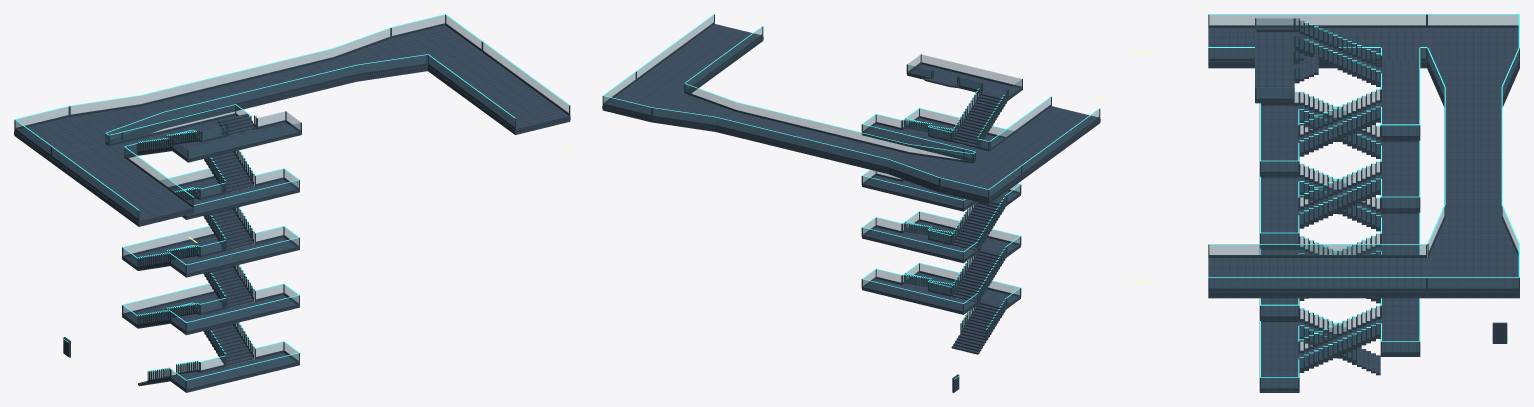
The model's file is v02-detailed-00-03-coffered-slender.glb.
The picture shows the model from 3 angles, left to right: view 1: azimuth 30°, elevation 25°; view 2: azimuth 150°, elevation 25°; view 3: azimuth 270°, elevation 25°; orthographic projection. The views are drawn at different scales.
Parts seen in each view (by area): view 1: v02-detailed-00-03-coffered-slender::endpad-E-24-210, v02-detailed-00-03-coffered-slender::public-guard-0000, v02-detailed-00-03-coffered-slender::detail-fascia-endpad-E-, v02-detailed-00-03-coffered-slender::kiosk-trim-directory; view 2: v02-detailed-00-03-coffered-slender::endpad-E-24-210, v02-detailed-00-03-coffered-slender::public-guard-0000, v02-detailed-00-03-coffered-slender::detail-fascia-endpad-E-, v02-detailed-00-03-coffered-slender::kiosk-trim-directory; view 3: v02-detailed-00-03-coffered-slender::endpad-E-24-210, v02-detailed-00-03-coffered-slender::public-guard-0000, v02-detailed-00-03-coffered-slender::detail-fascia-endpad-E-, v02-detailed-00-03-coffered-slender::kiosk-trim-directory.
Part boxes in pixels (bbox=[...]): v02-detailed-00-03-coffered-slender::endpad-E-24-210: bbox=[14, 25, 570, 392]; v02-detailed-00-03-coffered-slender::public-guard-0000: bbox=[15, 15, 568, 388]; v02-detailed-00-03-coffered-slender::detail-fascia-endpad-E-: bbox=[14, 15, 570, 391]; v02-detailed-00-03-coffered-slender::kiosk-trim-directory: bbox=[14, 14, 569, 380]; v02-detailed-00-03-coffered-slender::endpad-E-24-210: bbox=[602, 24, 1100, 354]; v02-detailed-00-03-coffered-slender::public-guard-0000: bbox=[603, 15, 1099, 336]; v02-detailed-00-03-coffered-slender::detail-fascia-endpad-E-: bbox=[602, 14, 1100, 392]; v02-detailed-00-03-coffered-slender::kiosk-trim-directory: bbox=[602, 14, 1099, 379]; v02-detailed-00-03-coffered-slender::endpad-E-24-210: bbox=[1208, 28, 1519, 392]; v02-detailed-00-03-coffered-slender::public-guard-0000: bbox=[1209, 15, 1519, 387]; v02-detailed-00-03-coffered-slender::detail-fascia-endpad-E-: bbox=[1208, 14, 1519, 390]; v02-detailed-00-03-coffered-slender::kiosk-trim-directory: bbox=[1208, 14, 1519, 377].
Bounding box in the file's own units: 47.1 × 28.39 × 29.25.
5 materials, 1 textured.
